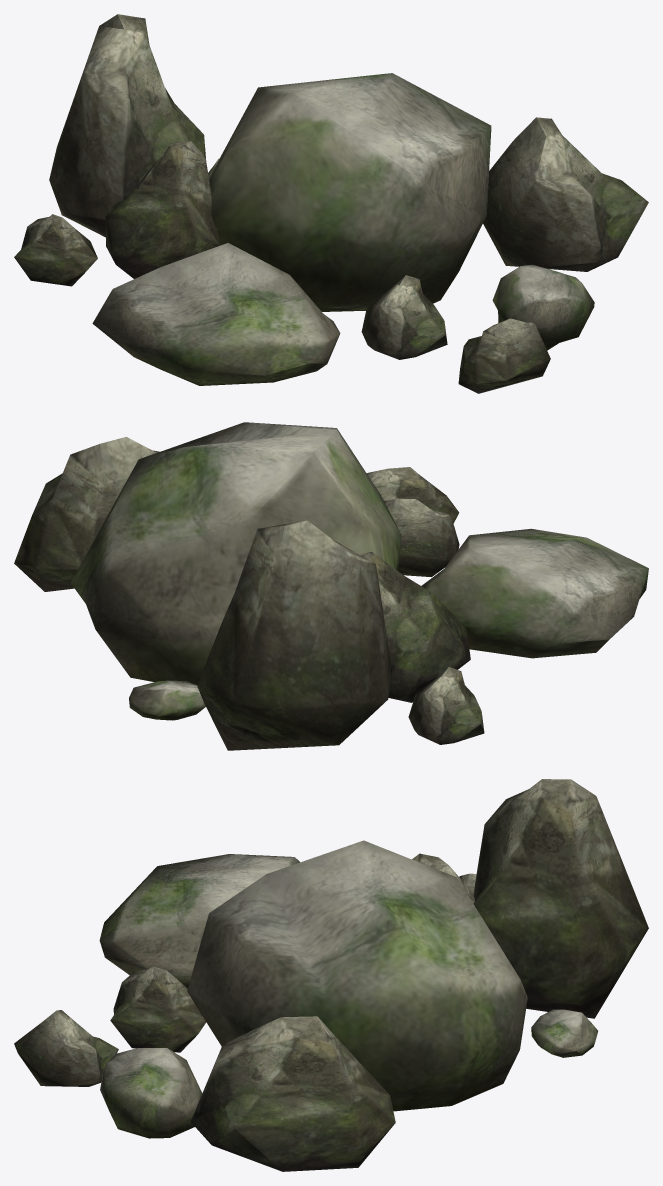
File: zz_dont_use_rocks_Dk_group_2F.fbx
3 renders of one model, top to bottom at view 1: azimuth 30°, elevation 25°; view 2: azimuth 150°, elevation 25°; view 3: azimuth 270°, elevation 25°, orthographic. The views are drawn at different scales.
Visible parts, largest first — view 1: rock_2, rock_9, rock_10, rock_6, rock_1, rock_5, rock_8, rock_7, rock_4; view 2: rock_2, rock_10, rock_9, rock_6, rock_1, rock_4, rock_7, rock_3, rock_8; view 3: rock_2, rock_10, rock_6, rock_9, rock_5, rock_7, rock_8, rock_3, rock_1.
Part boxes in pixels (<box>): rock_2: <box>209,73,491,311</box>; rock_9: <box>92,243,340,385</box>; rock_10: <box>49,14,206,237</box>; rock_6: <box>483,117,648,271</box>; rock_1: <box>105,141,219,278</box>; rock_5: <box>492,264,594,350</box>; rock_8: <box>458,318,550,393</box>; rock_7: <box>361,275,447,359</box>; rock_4: <box>14,214,97,286</box>; rock_2: <box>70,422,401,684</box>; rock_10: <box>197,520,391,750</box>; rock_9: <box>421,528,648,658</box>; rock_6: <box>14,437,159,591</box>; rock_1: <box>359,552,470,702</box>; rock_4: <box>408,667,484,744</box>; rock_7: <box>384,498,459,577</box>; rock_3: <box>129,680,205,720</box>; rock_8: <box>366,467,459,523</box>; rock_2: <box>187,840,527,1111</box>; rock_10: <box>473,779,648,1018</box>; rock_6: <box>190,1016,395,1171</box>; rock_9: <box>99,854,299,987</box>; rock_5: <box>100,1048,202,1138</box>; rock_7: <box>110,966,206,1052</box>; rock_8: <box>14,1010,118,1086</box>; rock_3: <box>531,1009,597,1057</box>; rock_1: <box>412,853,474,903</box>.
Bounding box in the file's own units: 1322 × 568 × 1312.
Materials: 1 (1 with a texture image).
